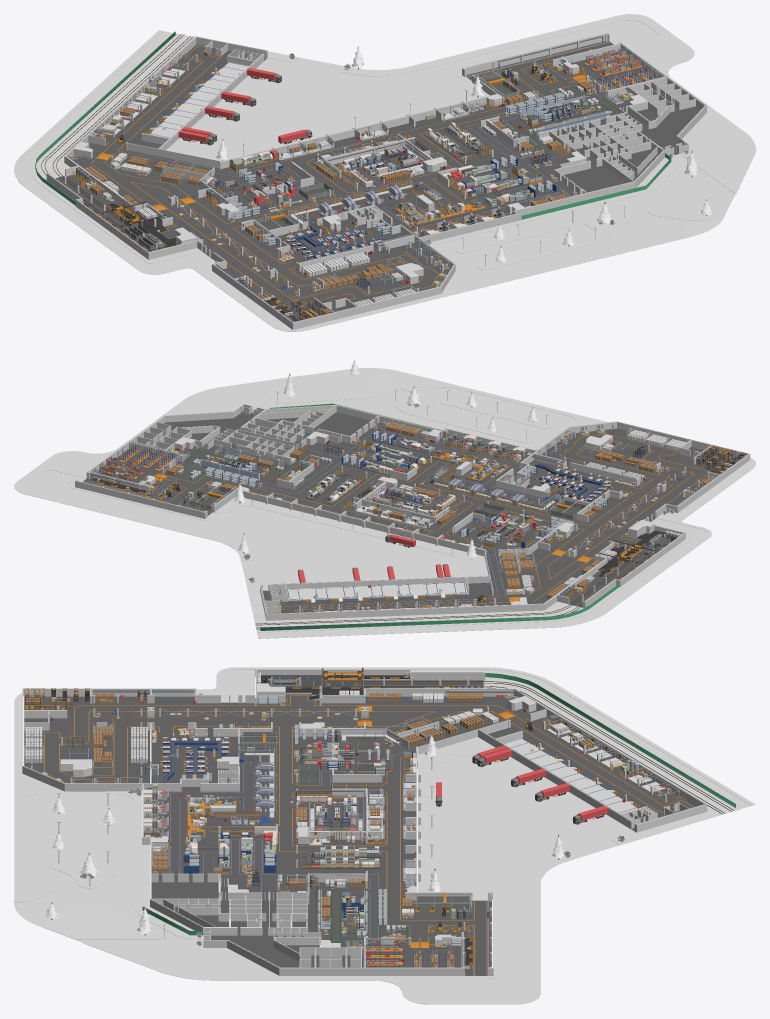
The model's file is Fictional factory.fbx.
The picture shows the model from 3 angles, top to bottom: view 1: azimuth 30°, elevation 25°; view 2: azimuth 150°, elevation 25°; view 3: azimuth 270°, elevation 25°; orthographic projection. The views are drawn at different scales.
Parts seen in each view (by area): view 1: Floor, Asfalt2, Walls, Asfalt2.002, Znacenie_combined, Inside_budovy, Outside wall.021, Pillars type 1, Kolajnice, Znacenie outside, Plane.004, Plot.001 (+9 smaller); view 2: Floor, Walls, Asfalt2, Asfalt2.002, Znacenie_combined, Outside wall.021, Inside_budovy, Plot.001, Pillars type 1, Kolajnice, Znacenie outside, Peleton (+7 smaller); view 3: Floor, Asfalt2, Asfalt2.002, Walls, Znacenie_combined, Inside_budovy, Outside wall.021, Pillars type 1, Znacenie outside, Kolajnice, Plot.001, Peleton (+8 smaller).
Boxes of the visible parts, <box> form: Floor: <box>56,41,700,321</box>; Asfalt2: <box>18,20,735,281</box>; Walls: <box>46,32,706,329</box>; Asfalt2.002: <box>14,14,755,331</box>; Znacenie_combined: <box>91,41,644,306</box>; Inside_budovy: <box>74,62,646,284</box>; Outside wall.021: <box>149,62,248,138</box>; Pillars type 1: <box>64,33,619,302</box>; Kolajnice: <box>41,34,193,251</box>; Znacenie outside: <box>177,77,639,280</box>; Plane.004: <box>392,187,556,226</box>; Plot.001: <box>35,31,175,205</box>; Floor: <box>82,411,737,613</box>; Walls: <box>75,404,750,620</box>; Asfalt2: <box>27,368,707,636</box>; Asfalt2.002: <box>14,369,755,638</box>; Znacenie_combined: <box>83,425,708,612</box>; Outside wall.021: <box>287,582,467,601</box>; Inside_budovy: <box>146,429,654,604</box>; Plot.001: <box>260,583,619,630</box>; Pillars type 1: <box>77,424,709,612</box>; Kolajnice: <box>255,540,671,629</box>; Znacenie outside: <box>246,388,572,582</box>; Peleton: <box>598,530,676,577</box>; Floor: <box>24,680,695,975</box>; Asfalt2: <box>14,669,751,998</box>; Asfalt2.002: <box>14,667,755,1004</box>; Walls: <box>22,669,707,975</box>; Znacenie_combined: <box>44,695,693,975</box>; Inside_budovy: <box>60,683,536,947</box>; Outside wall.021: <box>503,738,637,813</box>; Pillars type 1: <box>31,677,666,967</box>; Znacenie outside: <box>22,758,608,897</box>; Kolajnice: <box>268,681,733,814</box>; Plot.001: <box>485,673,735,807</box>; Peleton: <box>261,675,409,700</box>.
Size of what is drawn, in the model's own units: 377 by 15.98 by 350.
